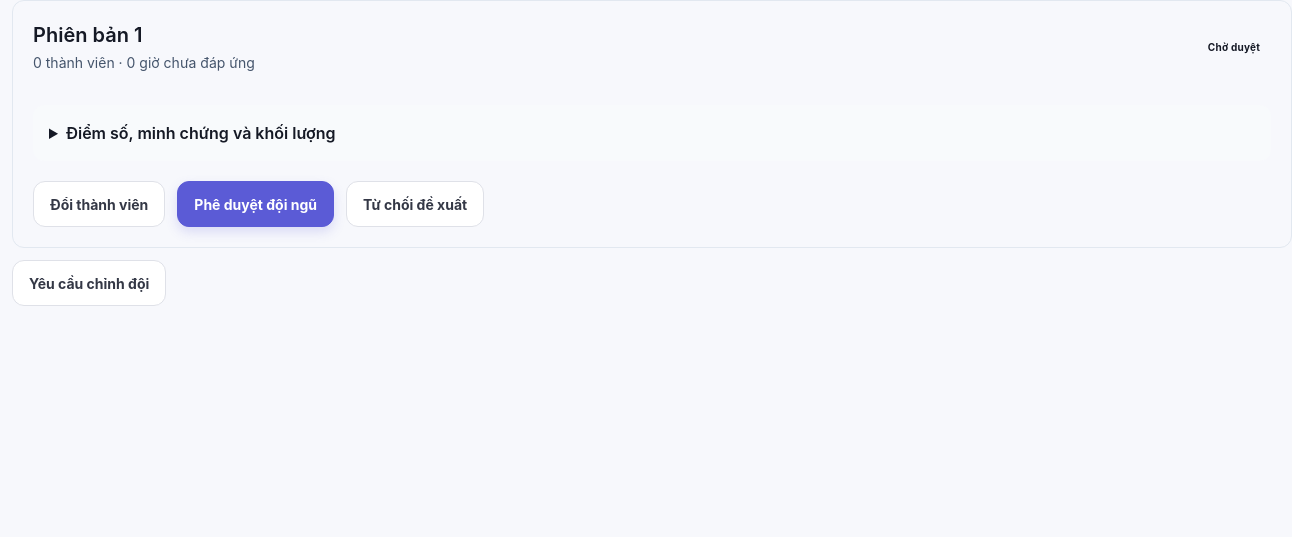
it: Assistant blocks › states the zero-assignment boundary before an inline team approval
Click the button "Phê duyệt đội ngũ". click: (256, 204)
box: [177,181,334,227]
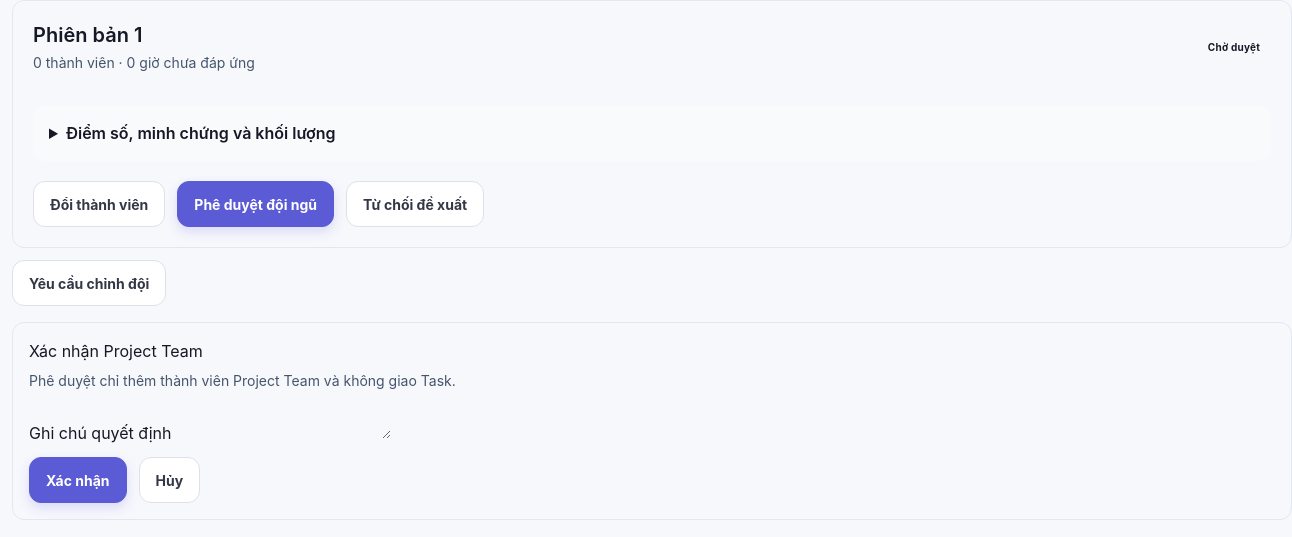
Expected: the text "Phê duyệt chỉ thêm thành viên Project Team và không giao Task." is shown, [29,372,456,389]
